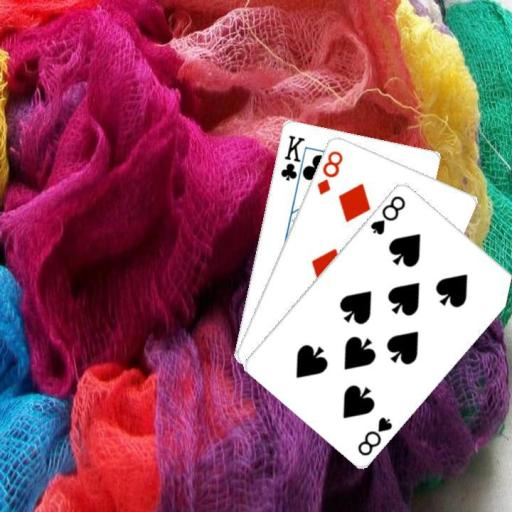8D: (314, 147, 344, 196)
8S: (366, 192, 407, 236), (354, 413, 394, 458)
KC: (278, 132, 310, 189)
